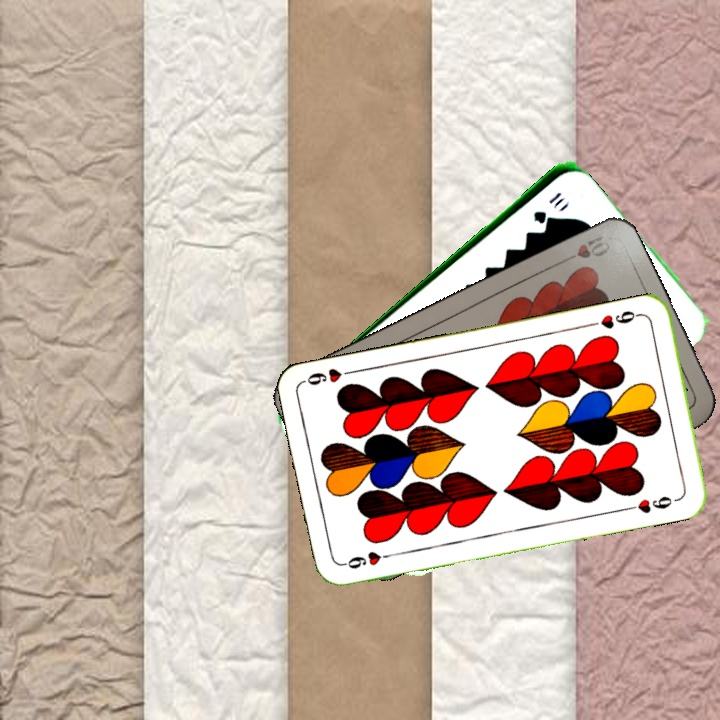G10: (529, 188, 567, 225)
H10: (556, 229, 614, 266)
H9: (586, 306, 645, 331), (338, 547, 397, 572)
